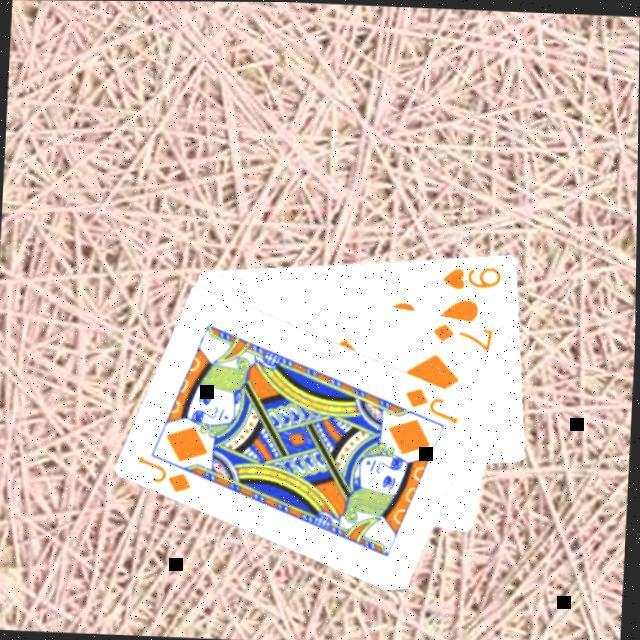7D: (428, 316, 494, 351)
9H: (438, 258, 504, 290)
JD: (399, 380, 464, 424), (133, 449, 195, 494)
